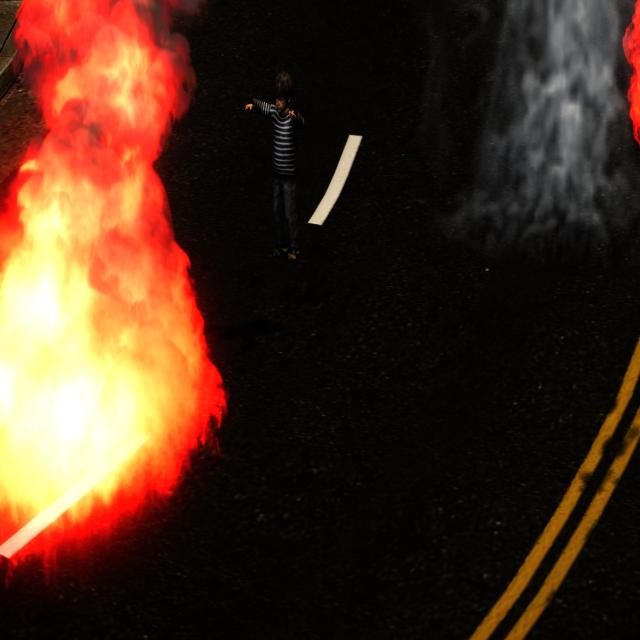Human: (238, 62, 309, 278)
